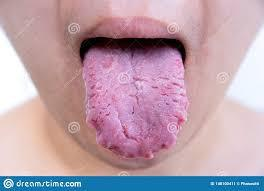chihenshe: (87, 119, 125, 159), (152, 118, 186, 158)
zishe: (83, 47, 189, 160)
